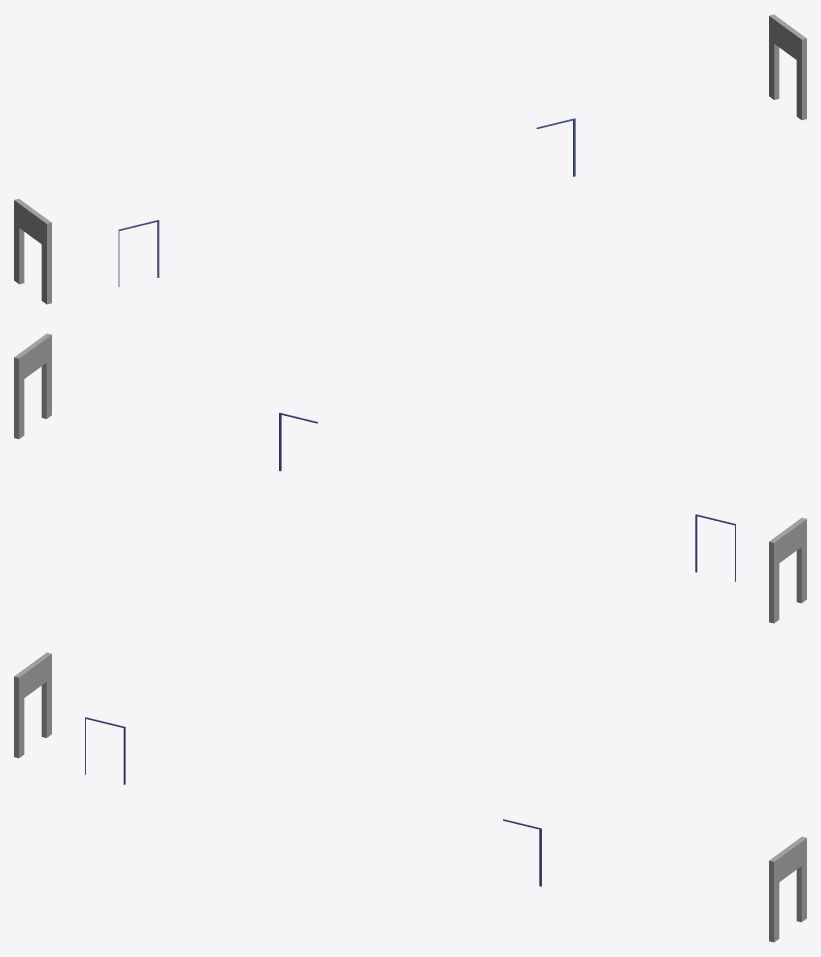
Rendered from CW_DoorWalls.fbx.
3 renders of one model, top to bottom at view 1: azimuth 30°, elevation 25°; view 2: azimuth 150°, elevation 25°; view 3: azimuth 330°, elevation 25°, orthographic.
Parts seen in each view (by area): view 1: DoorWall.001, DoorWall.002; view 2: DoorWall.001, DoorWall.002; view 3: DoorWall.002, DoorWall.001.
Boxes of the visible parts, <box> form: DoorWall.001: <box>14,198,51,304</box>; DoorWall.002: <box>769,14,806,120</box>; DoorWall.001: <box>769,517,806,623</box>; DoorWall.002: <box>14,333,51,439</box>; DoorWall.002: <box>769,836,806,942</box>; DoorWall.001: <box>14,652,51,758</box>.
Size of the model in its own units: 2962 by 227 by 301.
